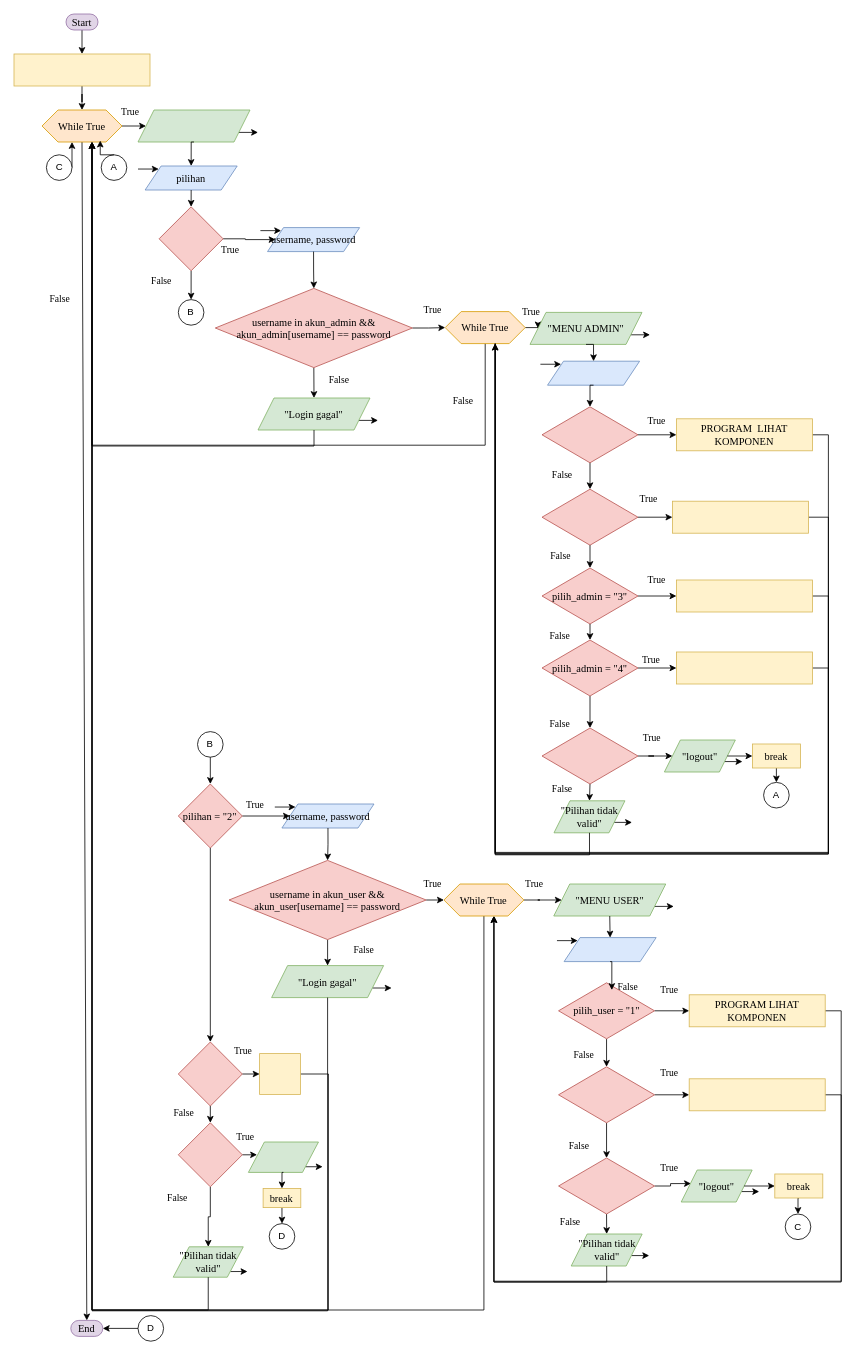
The diagram is 862 pixels wide and 1355 high, and some of its shapes have lost their labels. Here are the shapes that lost their labels. From the top down, the centre of each, then its label:
point 81,69: dictionary akun_admin, akun_user, komponen_pc
point 193,125: "MENU UTAMA"
point 190,238: pilihan = "1"
point 593,372: pilih_admin
point 589,434: pilih_admin = "1"
point 589,516: pilih_admin = "2"
point 740,516: PROGRAM TAMBAH KOMPONEN
point 744,595: PROGRAM UPDATE KOMPONEN
point 744,667: PROGRAM HAPUS KOMPONEN
point 589,755: pilih_admin = "5"
point 609,949: pilih_user
point 210,1073: pilihan = "3"
point 279,1073: PROGRAM REGISTER
point 606,1094: pilih_user = "2"
point 756,1094: PROGRAM BELI KOMPONEN
point 210,1154: pilihan = "4"
point 283,1156: "Terima kasih"
point 606,1185: pilih_user = "3"
